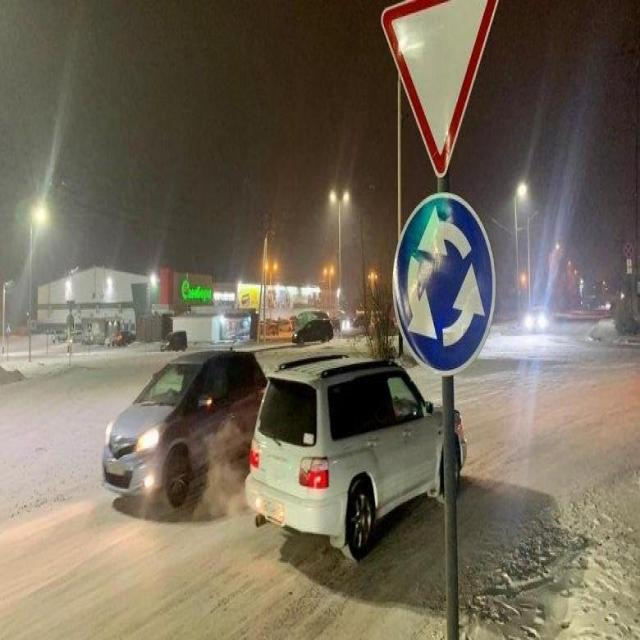roundabout: (391, 194, 497, 378)
